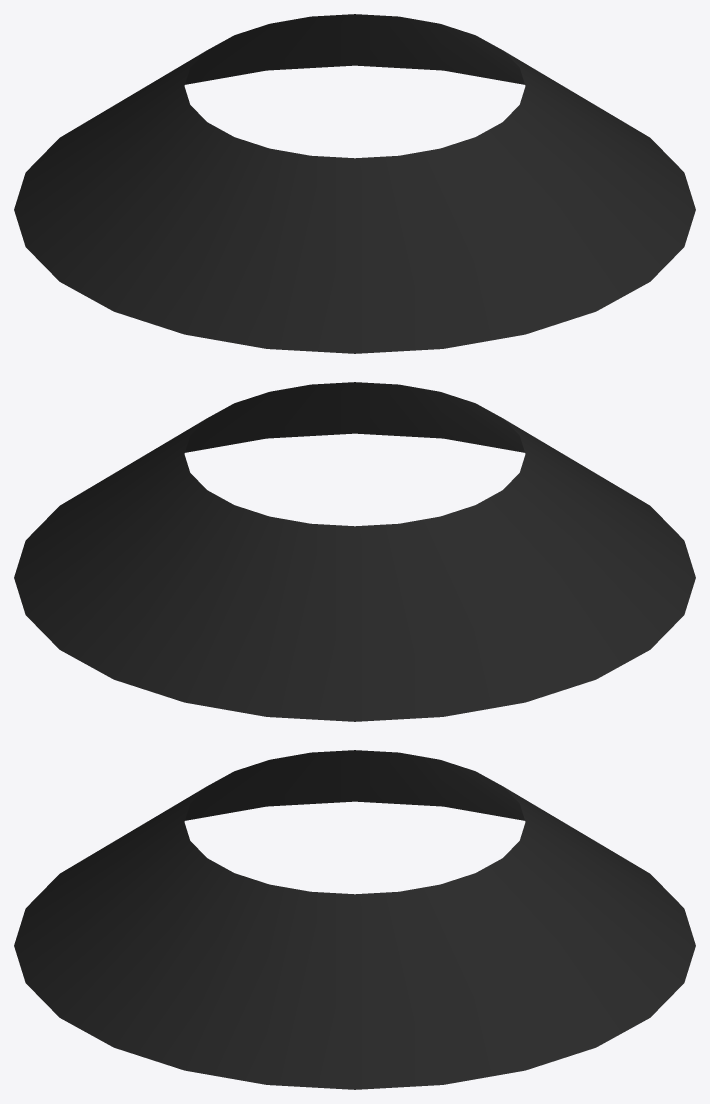
File: tantares_adapter_s1_s0_1.obj
The picture shows the model from 3 angles, top to bottom: view 1: azimuth 30°, elevation 25°; view 2: azimuth 150°, elevation 25°; view 3: azimuth 270°, elevation 25°; orthographic projection.
Parts seen in each view (by area): view 1: mesh; view 2: mesh; view 3: mesh.
Part boxes in pixels (<box>): mesh: <box>14,14,695,353</box>; mesh: <box>14,382,695,721</box>; mesh: <box>14,750,695,1089</box>.
Size of the model in its own units: 1.25 by 0.25 by 1.25.
